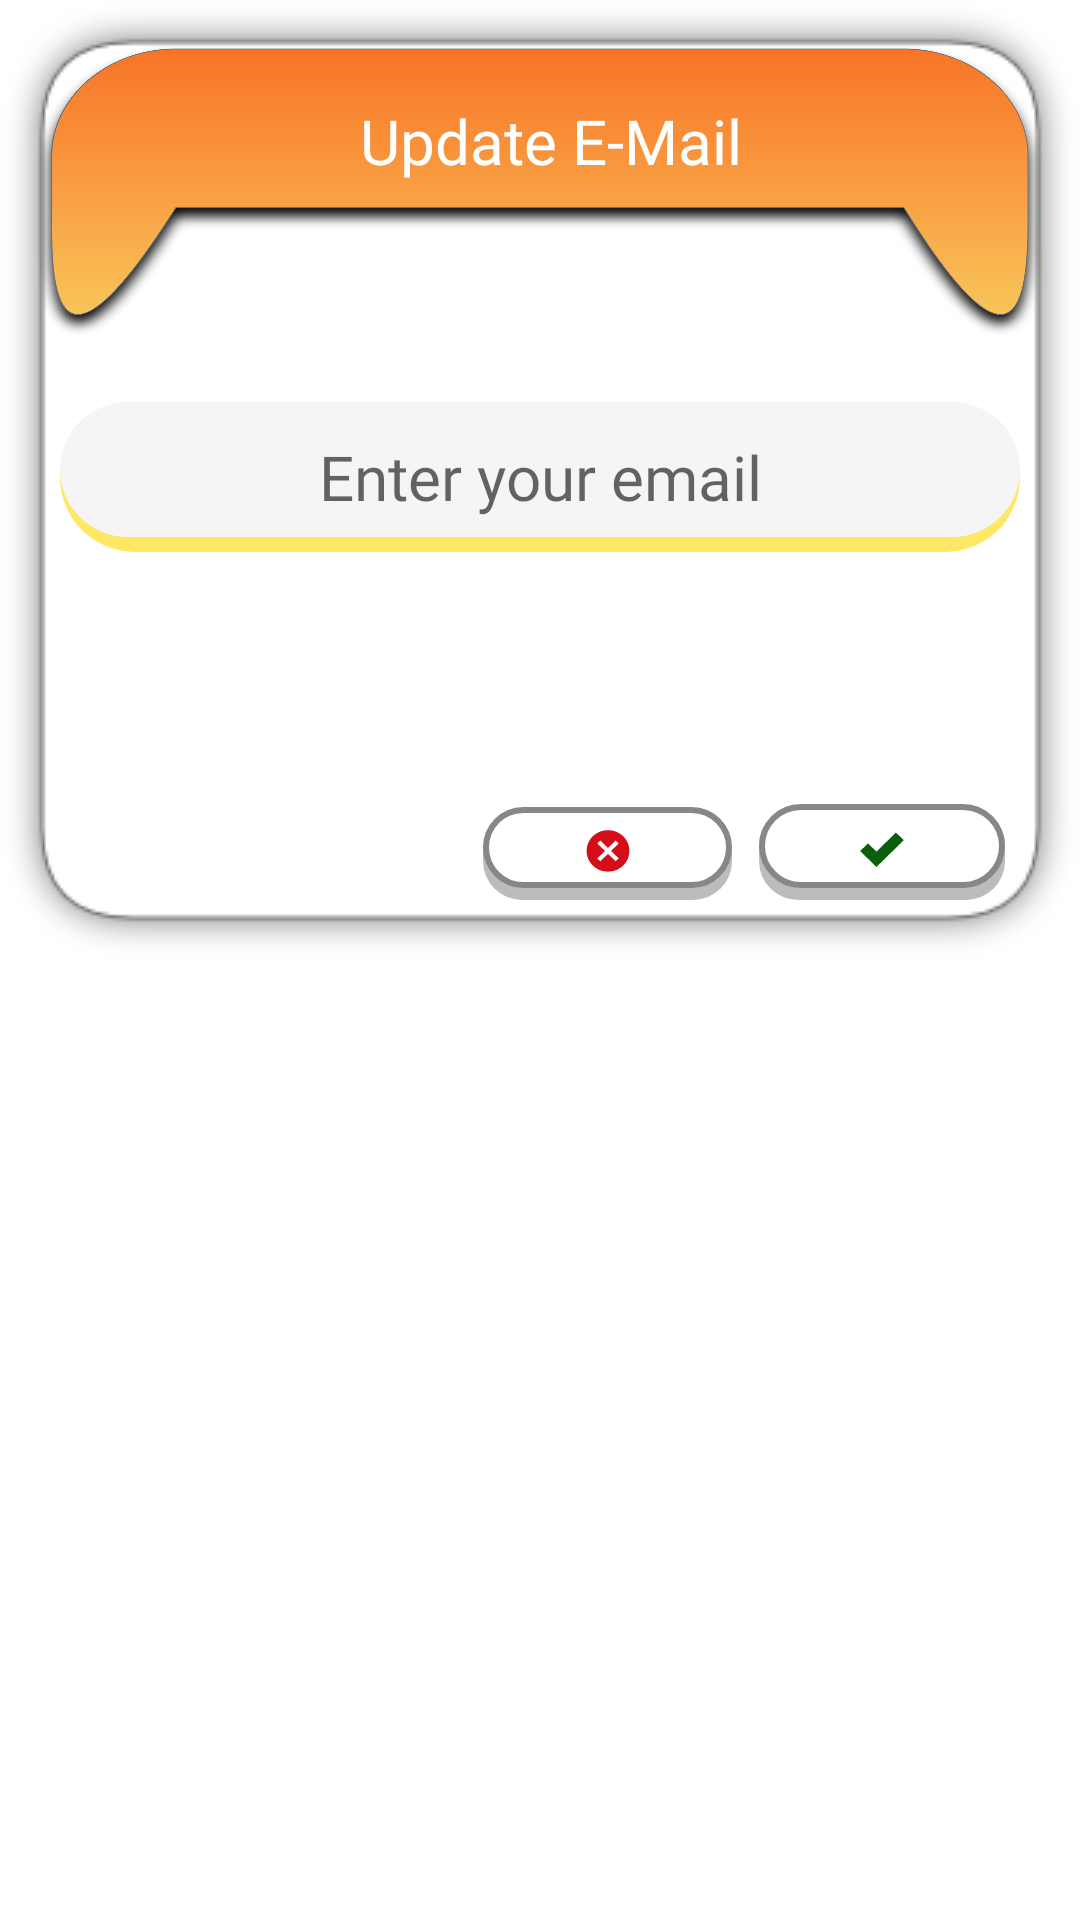

Icons on this 1080px×1920px Android screen, each with its box as (x1, y1, x2, y2):
cancel: (483, 807, 732, 900)
check: (759, 804, 1005, 900)
